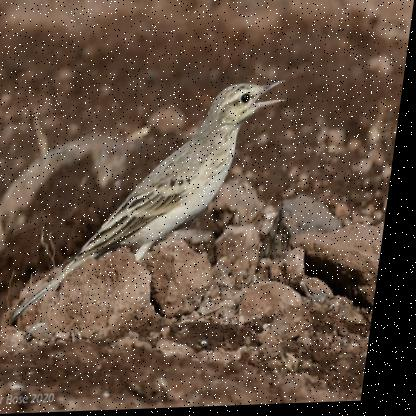Burung: (20, 76, 292, 319)
